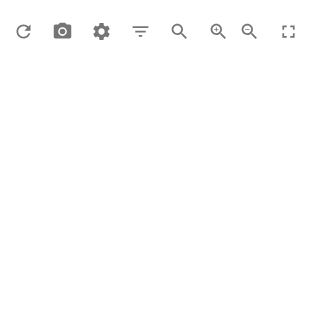
Scenario: LineageTab › Settings Popover › should open settings popover when settings button is clicked
Click the 3rd button. click: [102, 32]
box: [86, 16, 117, 47]
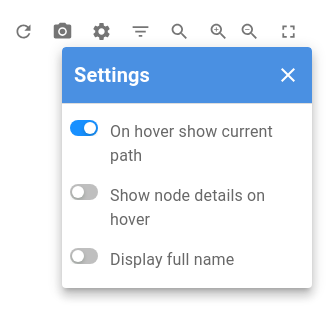
Expected: the heading "Settings" is shown, [74, 59, 150, 91]
